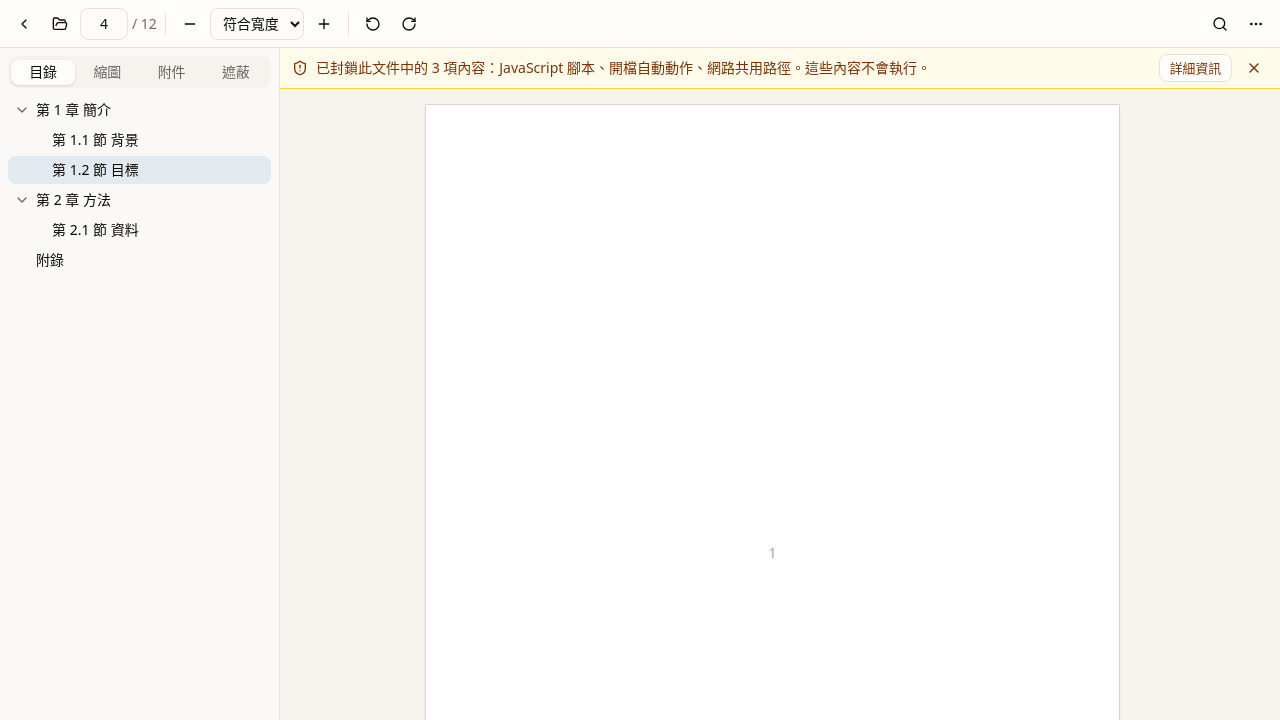
Test: open document › the details list every blocked kind with its count, and offer no way to run any of it
Step 1. Click the button "詳細資訊" → (1195, 68), box [1159,54,1232,82]
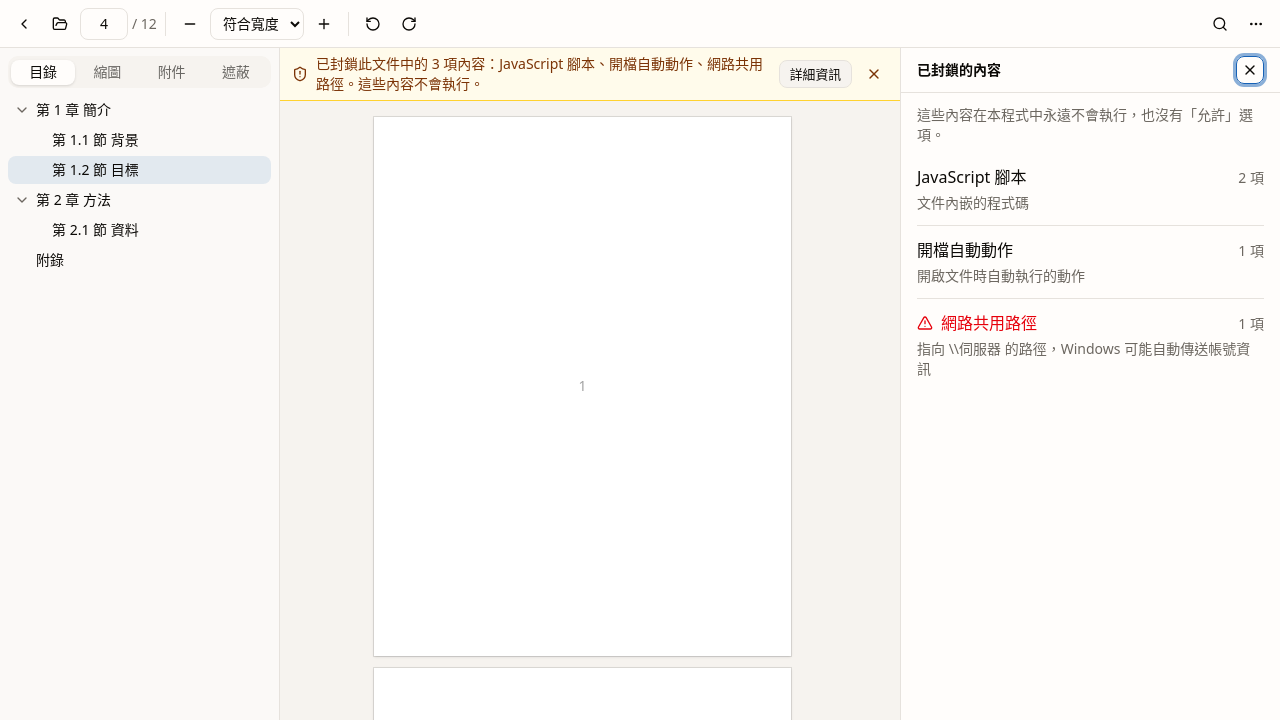
Now the button "詳細資訊" is expanded, box [779,60,852,88]
Now the text "這些內容在本程式中永遠不會執行，也沒有「允許」選項。" is shown, box [917,105,1264,145]
Step 2. Press Escape
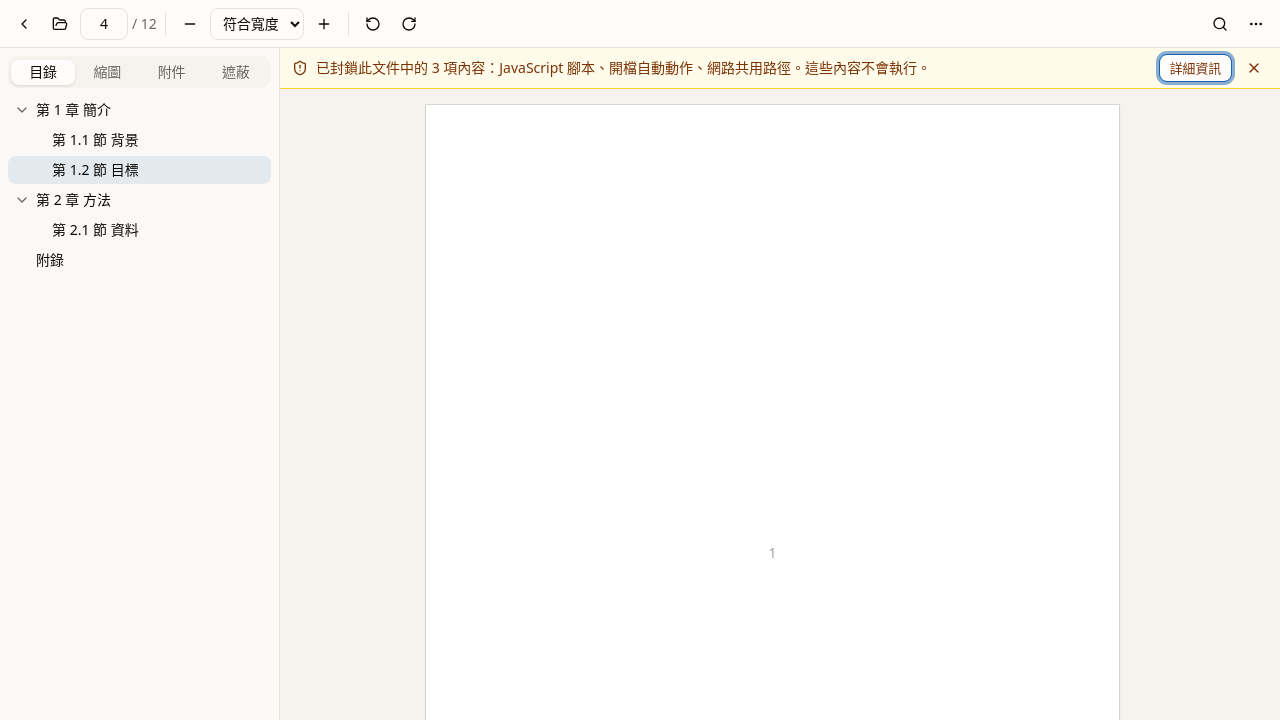
Now the heading "已封鎖的內容" is gone
